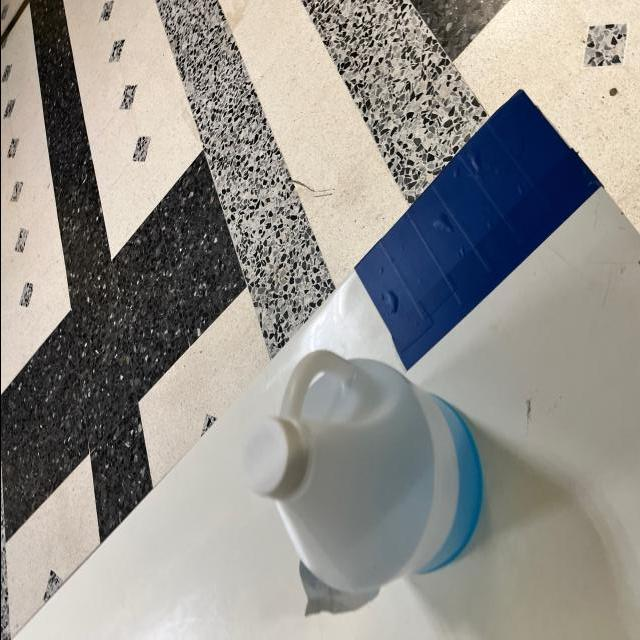HDPE Plastic: (235, 369, 495, 585)
